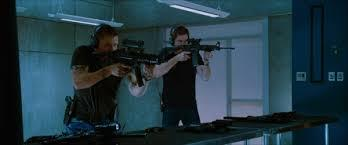rifle: (87, 38, 168, 88), (166, 39, 237, 65)
